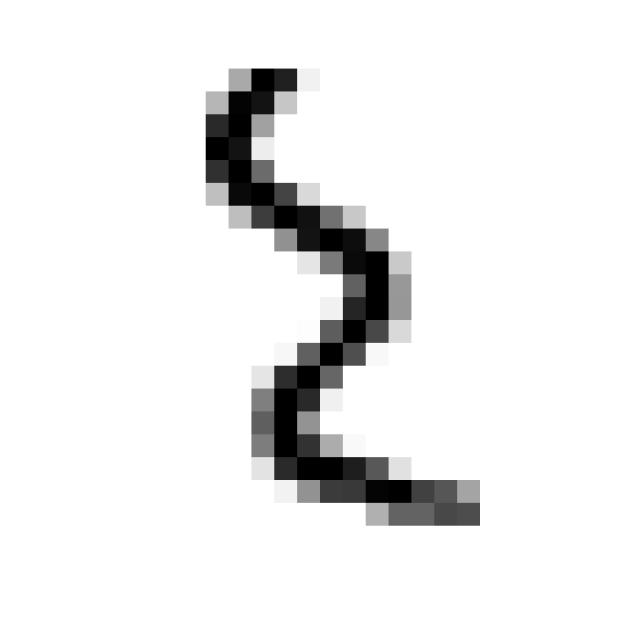4 -four-: (180, 52, 490, 546)
